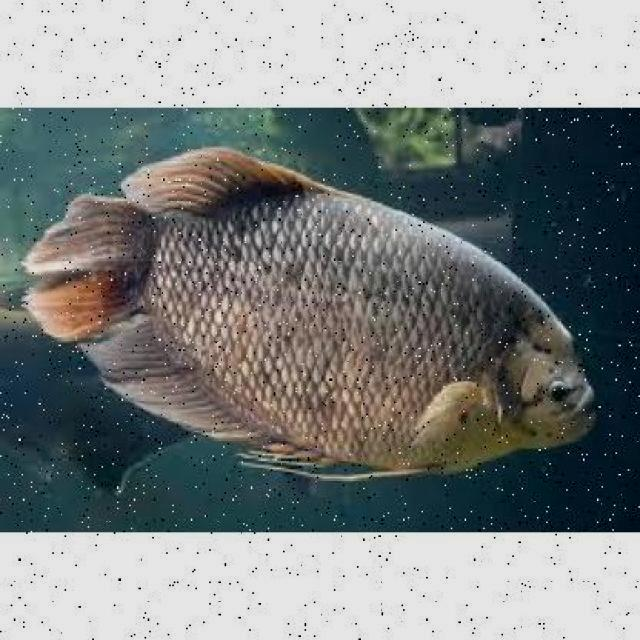gurame: (55, 146, 603, 480)
